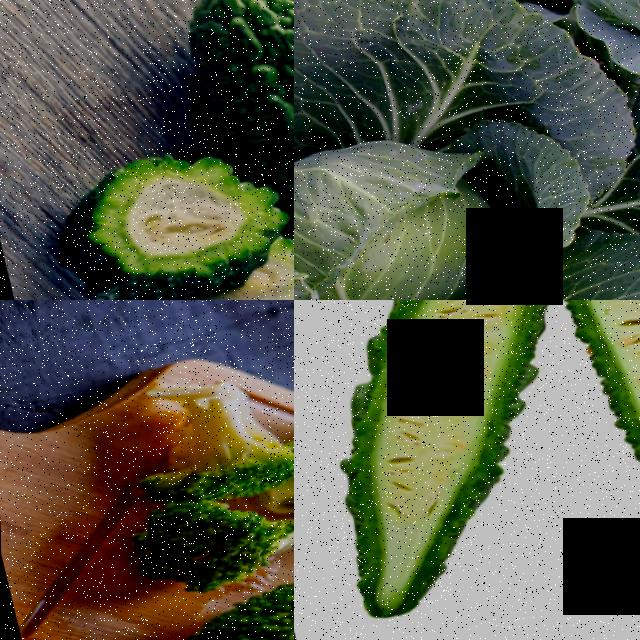bitter gourd: (294, 300, 620, 640), (33, 126, 283, 300), (525, 300, 640, 618), (224, 0, 294, 300), (140, 258, 294, 300)
broccoli: (109, 377, 273, 519), (123, 491, 294, 619), (144, 575, 294, 640)
cabbage: (294, 0, 640, 300)
